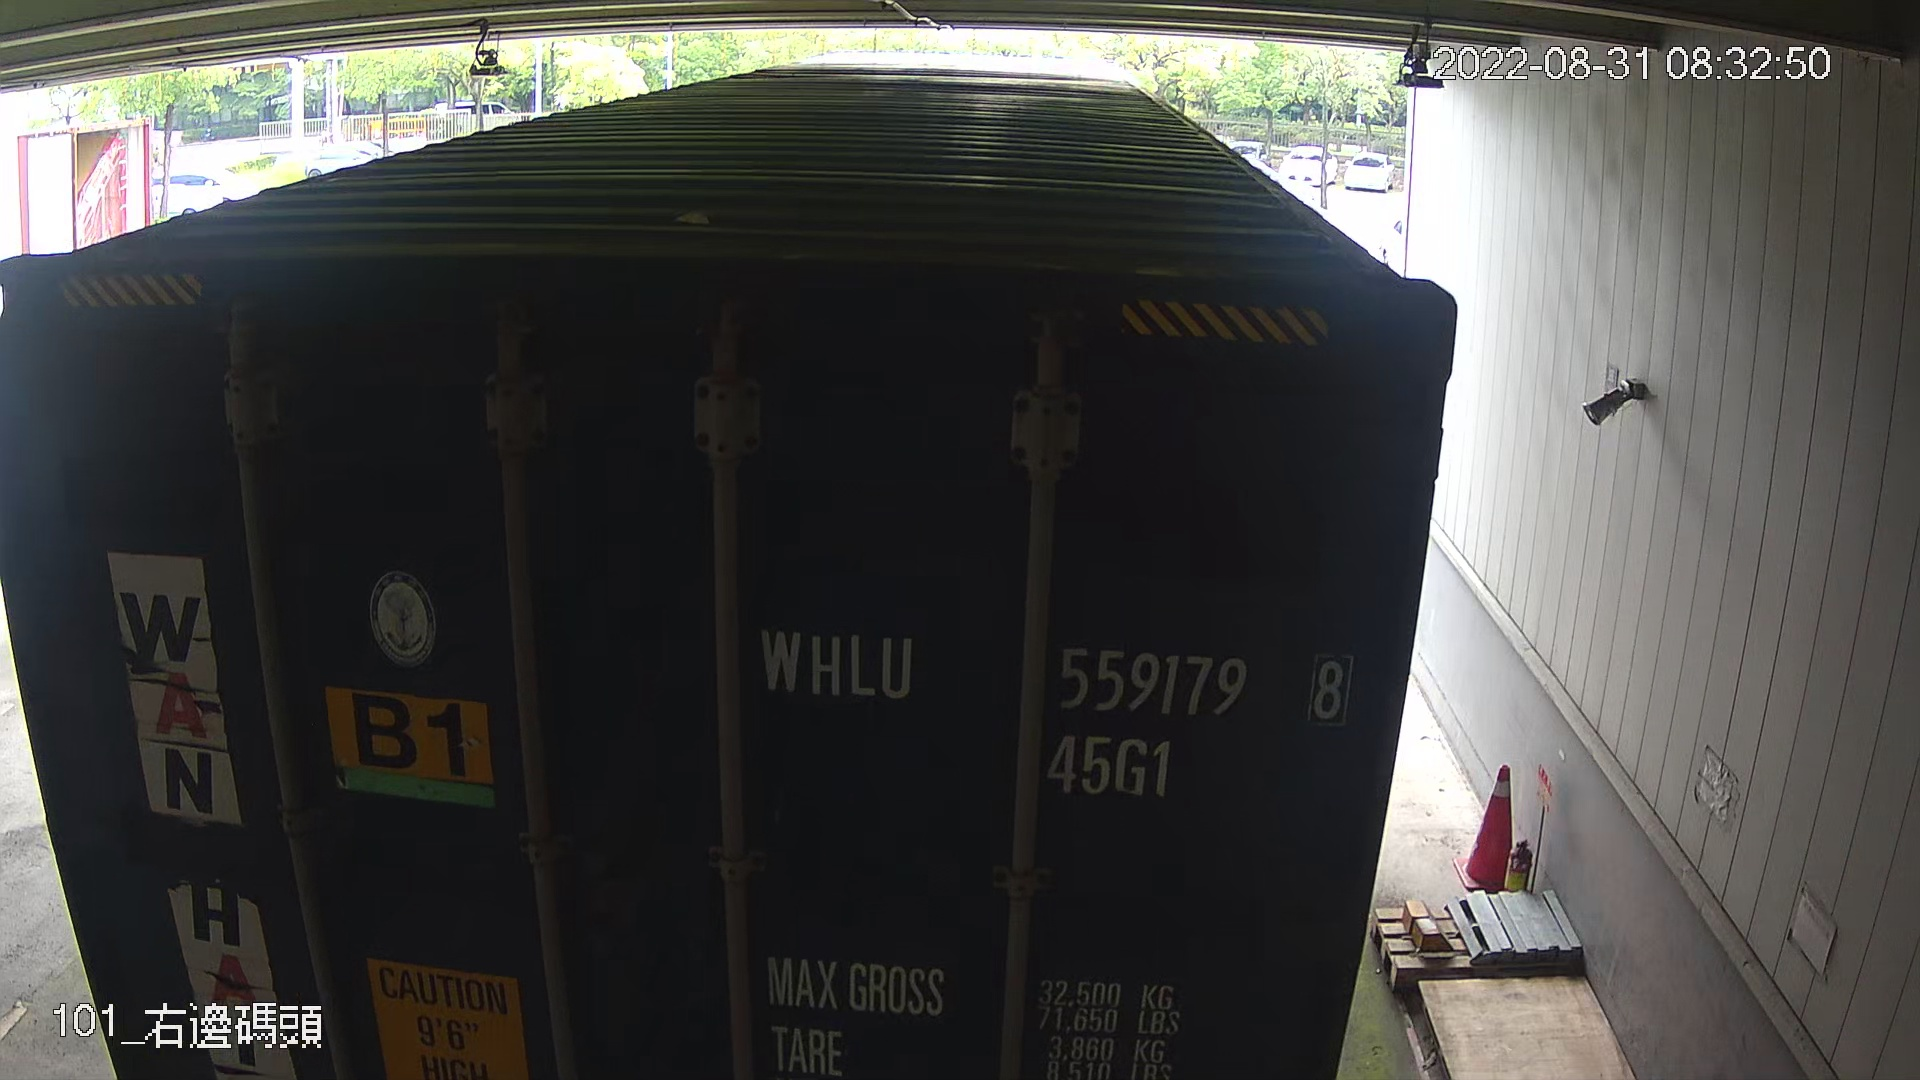container: (744, 603, 1367, 816)
